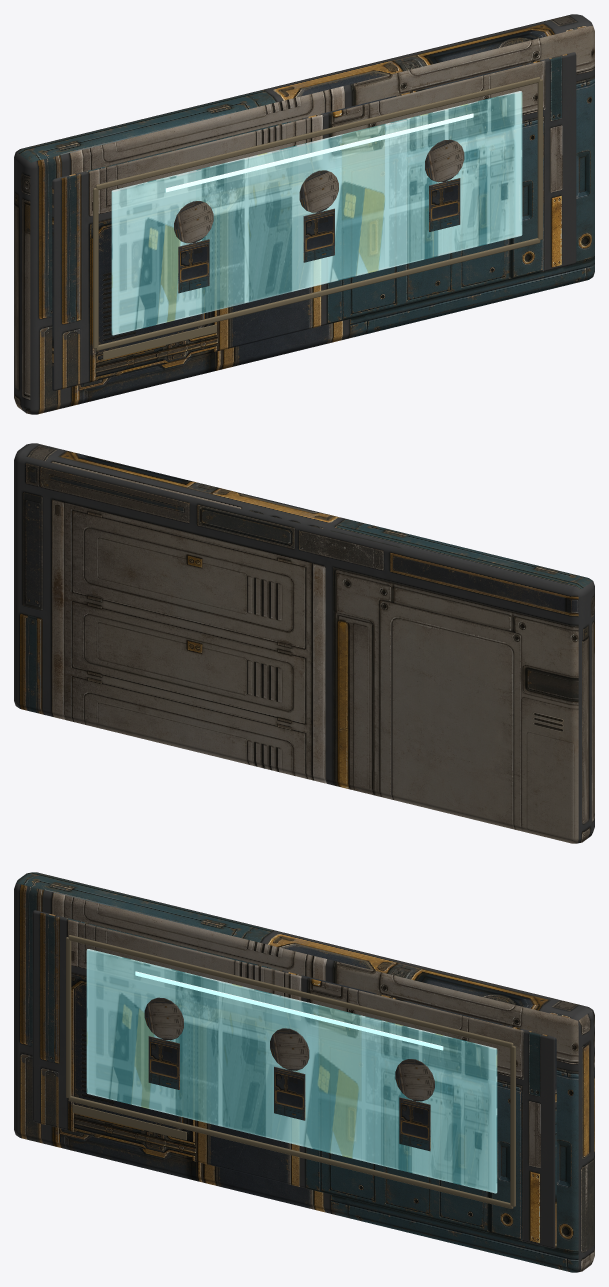
File: hp_room_residential_observation_window.glb
The picture shows the model from 3 angles, top to bottom: view 1: azimuth 30°, elevation 25°; view 2: azimuth 150°, elevation 25°; view 3: azimuth 330°, elevation 25°; orthographic projection.
Visible parts, largest first — view 1: inset_cool_wall_surround, smoked_lab_window_glass, observation_wall_backplate, observation_frame_top, observation_frame_bottom, cyan_one_way_glass_scan, absent_observer_body_0, absent_observer_body_1, absent_observer_body_2, absent_observer_head_1, absent_observer_head_0, absent_observer_head_2 (+3 smaller); view 2: observation_wall_backplate; view 3: inset_cool_wall_surround, smoked_lab_window_glass, observation_wall_backplate, observation_frame_top, observation_frame_bottom, cyan_one_way_glass_scan, absent_observer_body_1, absent_observer_body_2, absent_observer_body_0, absent_observer_head_1, absent_observer_head_2, absent_observer_head_0 (+3 smaller).
Boxes of the visible parts, x1,y1,x2,y2 form: inset_cool_wall_surround: [52, 52, 576, 390]; smoked_lab_window_glass: [111, 91, 522, 335]; observation_wall_backplate: [14, 14, 594, 414]; observation_frame_top: [95, 77, 540, 189]; observation_frame_bottom: [95, 238, 540, 350]; cyan_one_way_glass_scan: [165, 113, 473, 192]; absent_observer_body_0: [178, 239, 209, 293]; absent_observer_body_1: [303, 208, 334, 262]; absent_observer_body_2: [429, 178, 460, 231]; absent_observer_head_1: [299, 170, 338, 212]; absent_observer_head_0: [174, 201, 213, 243]; absent_observer_head_2: [425, 139, 464, 182]; observation_wall_backplate: [14, 443, 594, 843]; inset_cool_wall_surround: [32, 910, 556, 1248]; smoked_lab_window_glass: [86, 949, 497, 1193]; observation_wall_backplate: [14, 872, 594, 1272]; observation_frame_top: [68, 935, 513, 1047]; observation_frame_bottom: [68, 1096, 513, 1208]; cyan_one_way_glass_scan: [135, 971, 443, 1050]; absent_observer_body_1: [274, 1066, 305, 1120]; absent_observer_body_2: [399, 1097, 430, 1151]; absent_observer_body_0: [148, 1036, 179, 1089]; absent_observer_head_1: [270, 1028, 309, 1070]; absent_observer_head_2: [395, 1059, 434, 1101]; absent_observer_head_0: [144, 997, 183, 1040].
Bounding box in the file's own units: 3.9 × 1.69 × 0.296.
Materials: 5 (3 with a texture image).
